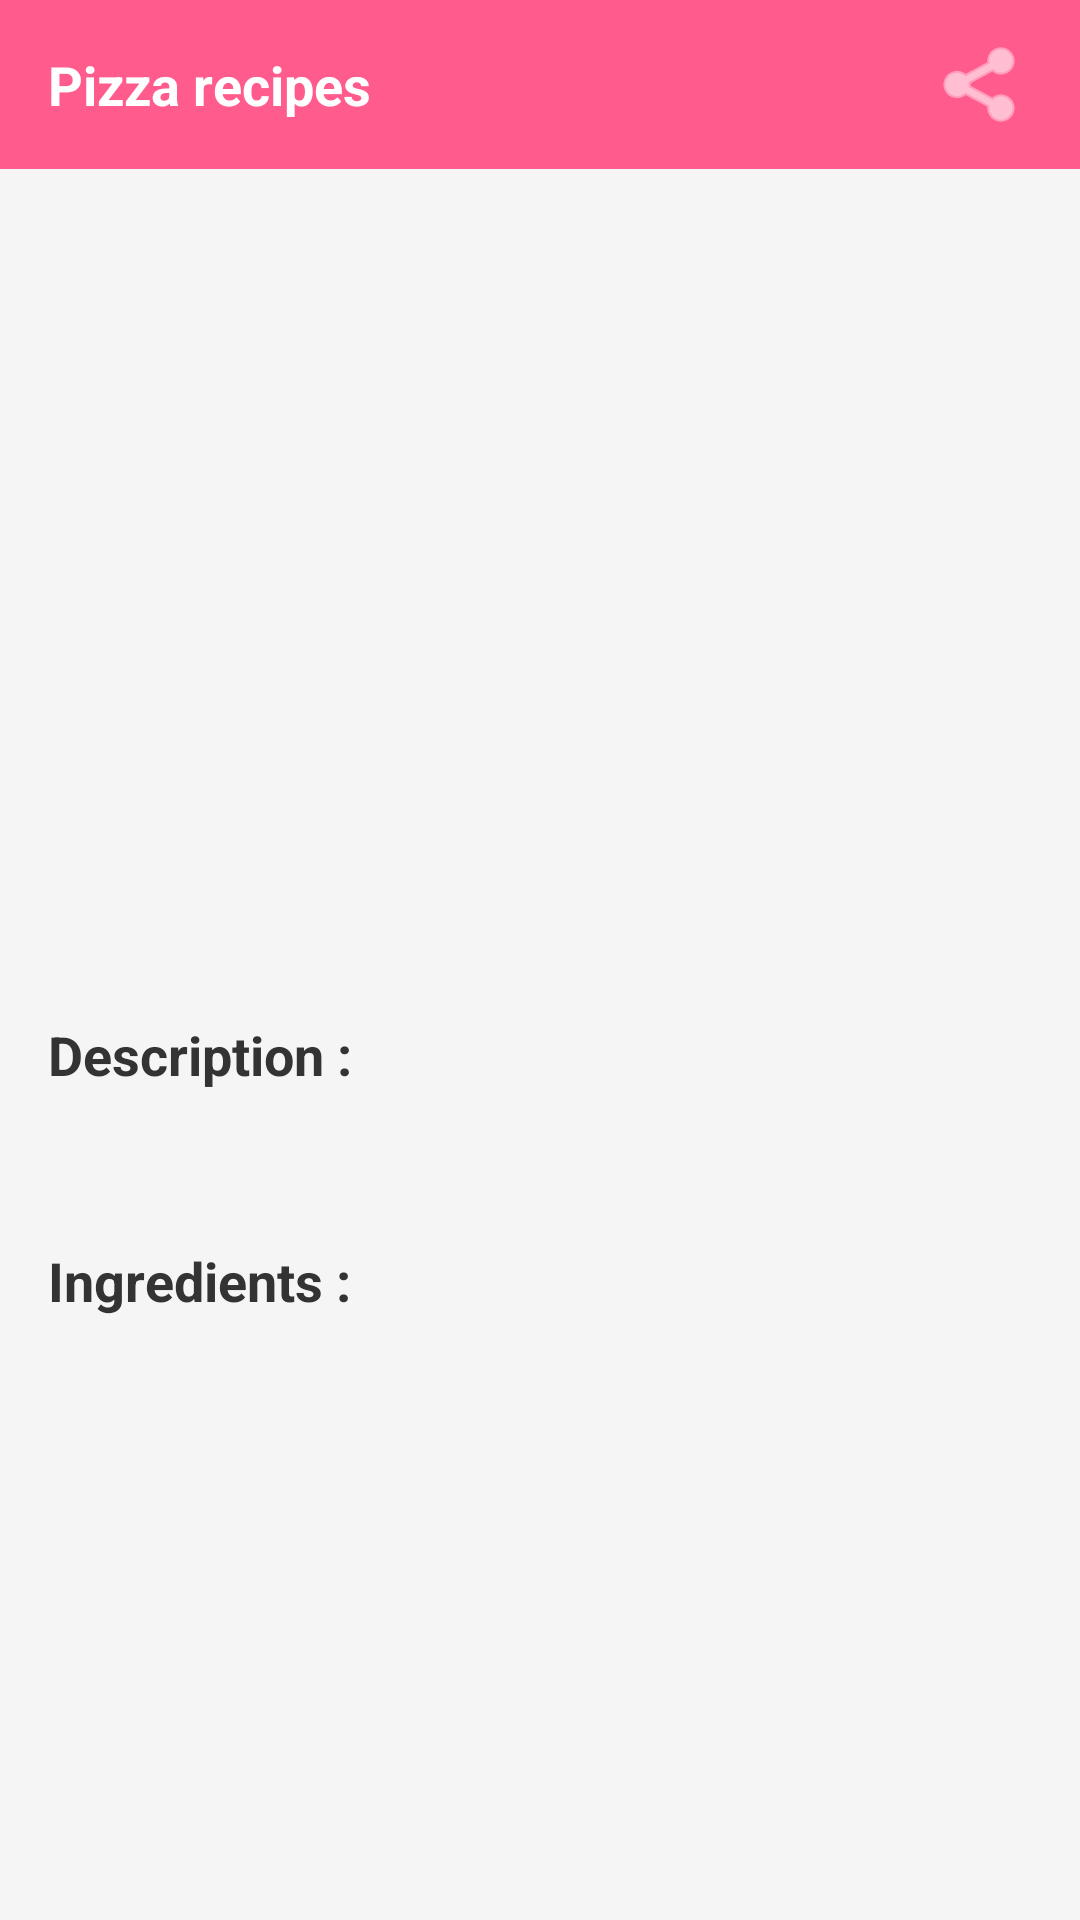

Icons on this 1080x1920 Android screen, each with its box as (x1, y1, x2, y2):
Share: (943, 47, 1015, 122)
